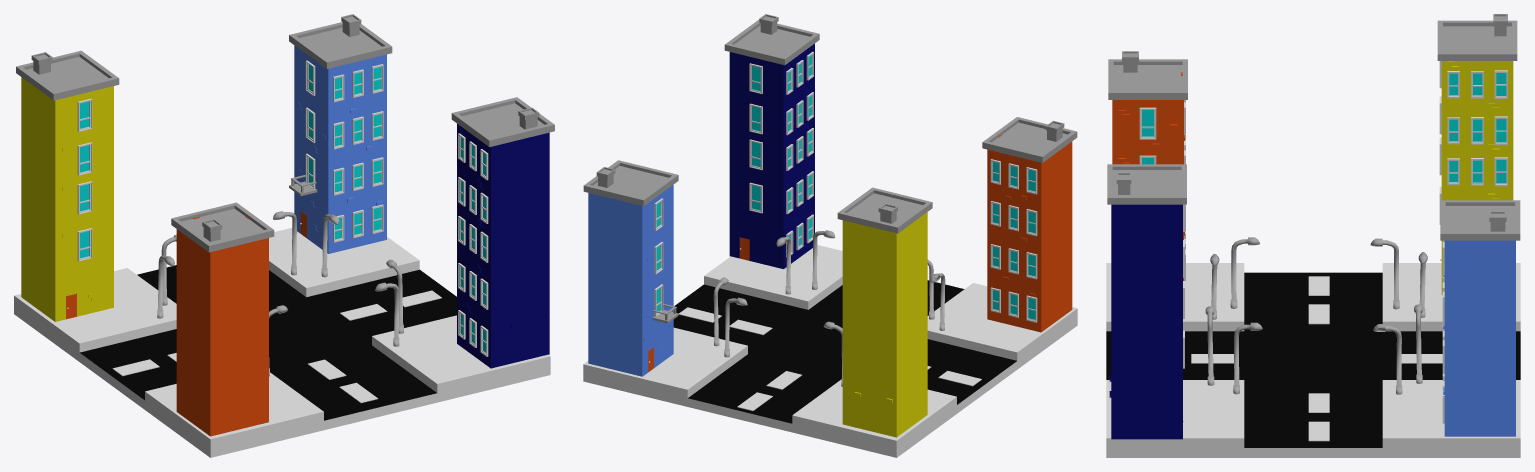
3 renders of one model, left to right at view 1: azimuth 30°, elevation 25°; view 2: azimuth 150°, elevation 25°; view 3: azimuth 270°, elevation 25°, orthographic. The views are drawn at different scales.
Parts seen in each view (by area): view 1: Cube.003; view 2: Cube.003; view 3: Cube.003.
Part boxes in pixels (x1,y1,x2,y2): Cube.003: [14, 14, 554, 457]; Cube.003: [583, 14, 1077, 457]; Cube.003: [1106, 14, 1520, 457].
Size of the model in its own units: 203 by 146 by 200.
